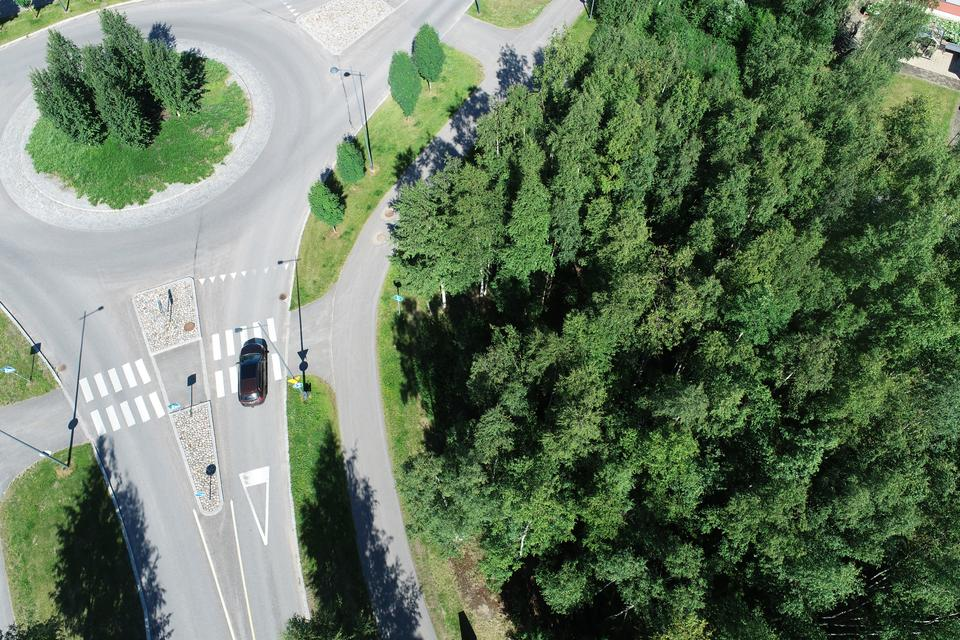intersection: (17, 310, 416, 482)
roundabout: (0, 0, 346, 289)
